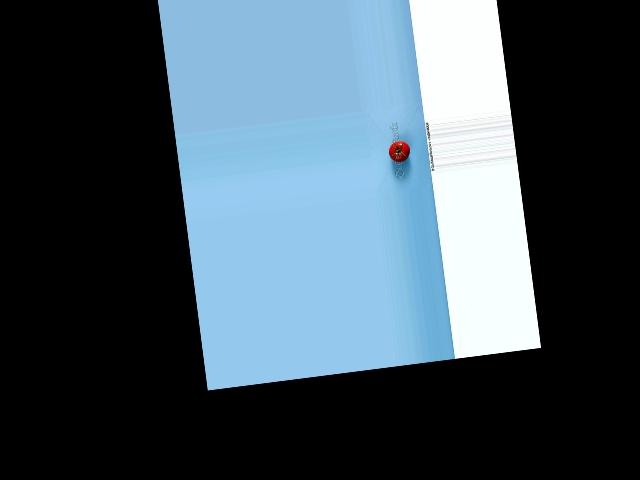tomato: (388, 140, 411, 162)
